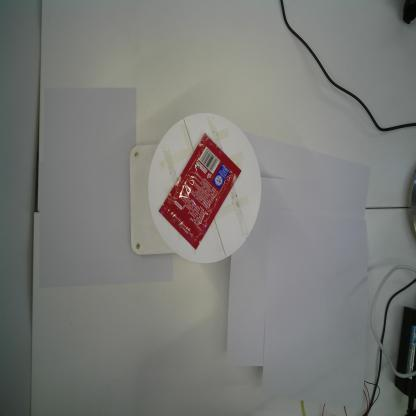Seasoner: (158, 132, 242, 250)
